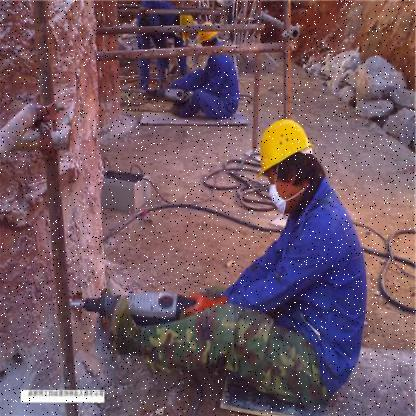helmet: (250, 109, 323, 203), (196, 22, 224, 55)
